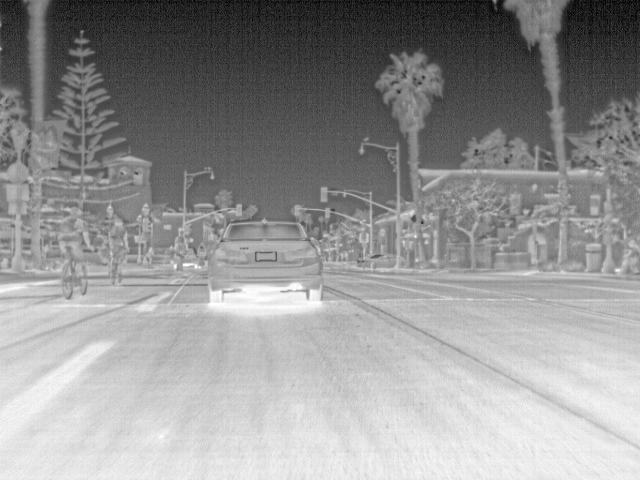car: (206, 218, 325, 305), (356, 250, 398, 271)
person: (56, 208, 91, 287), (108, 222, 130, 266)
